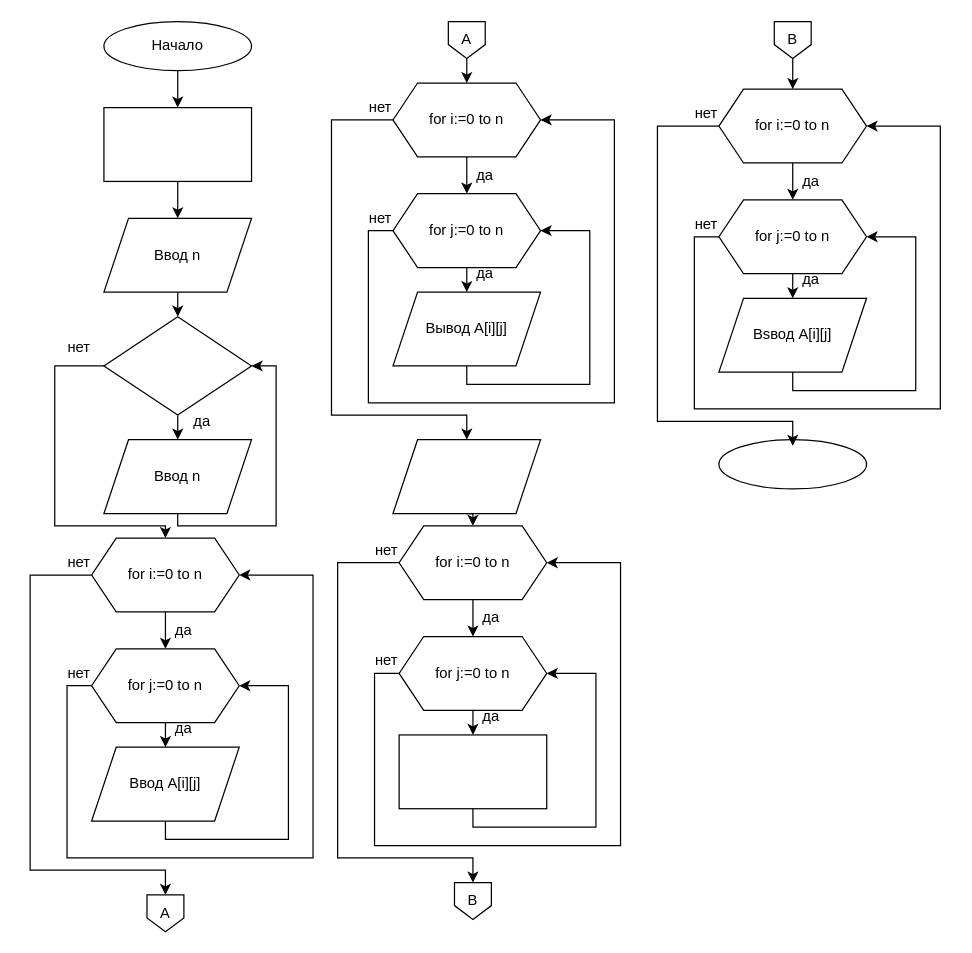
The diagram is 972 pixels wide and 953 high, and some of its shapes have lost their labels. The shapes that lost their labels are listed below. From the top down, each one's centre as x and y in pixels, then its label:
At pixel 177 143: "int n, c, N=10; int A[N][N];".
At pixel 177 365: "n<=0 && n>=N".
At pixel 466 476: "Ввод с".
At pixel 792 463: "Конец".
At pixel 472 771: "A[i][j]-=c;".
